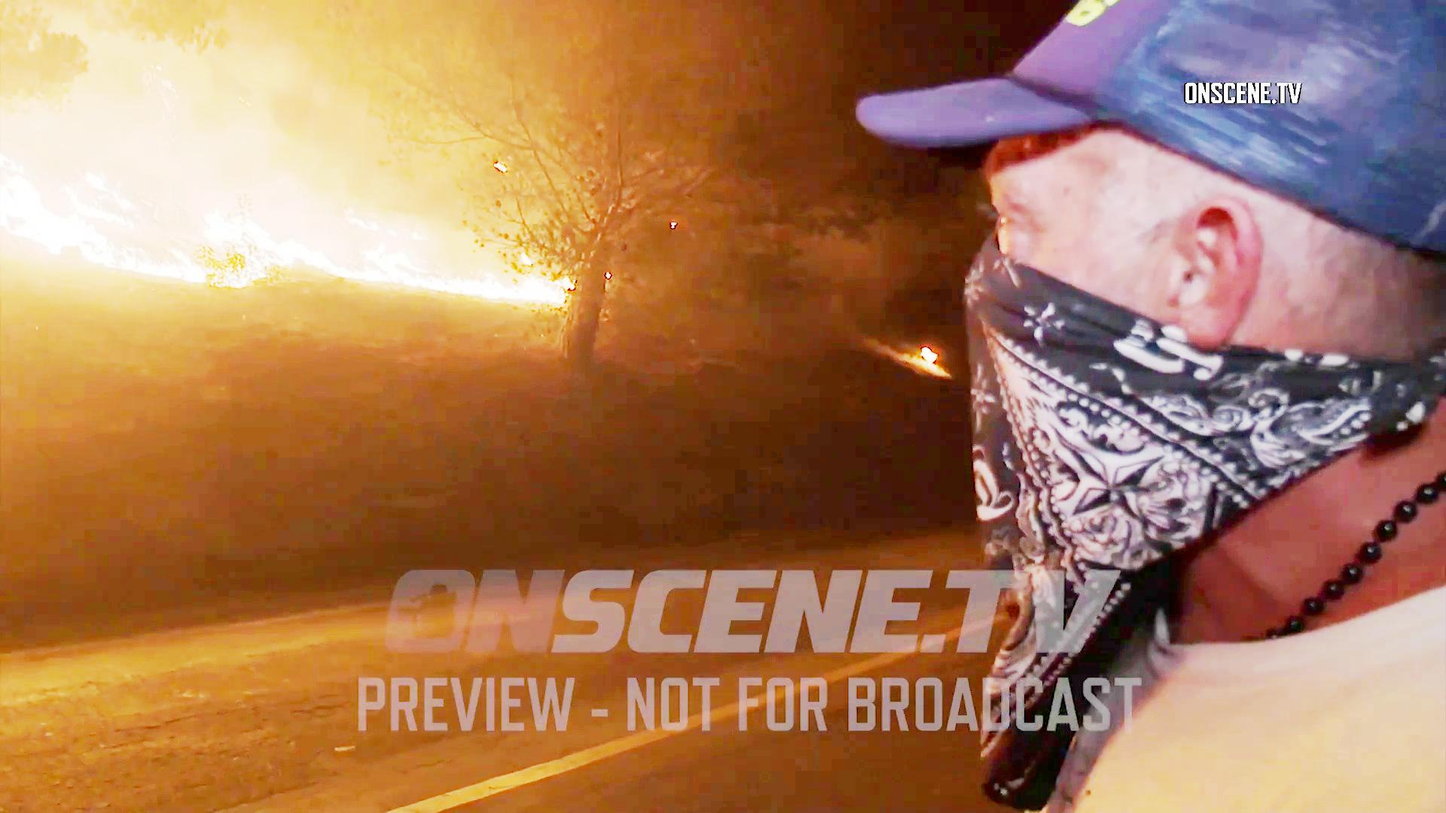fire: (0, 178, 456, 284)
